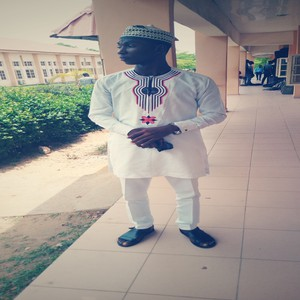Fulokoja_male_student: (95, 31, 207, 253)
